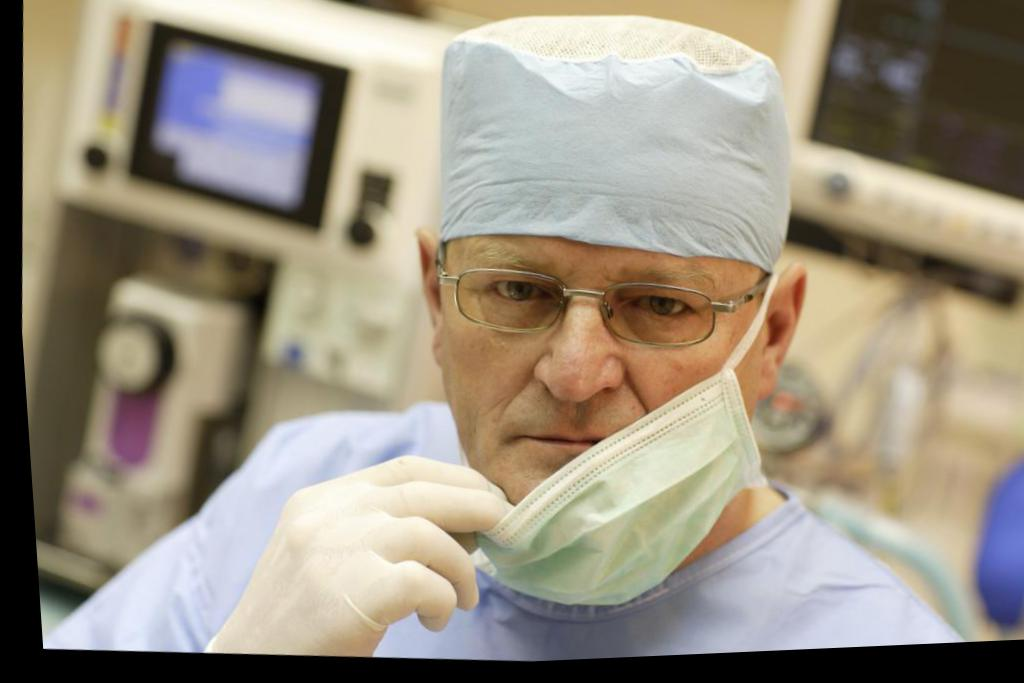WRONG: (398, 214, 765, 574)
